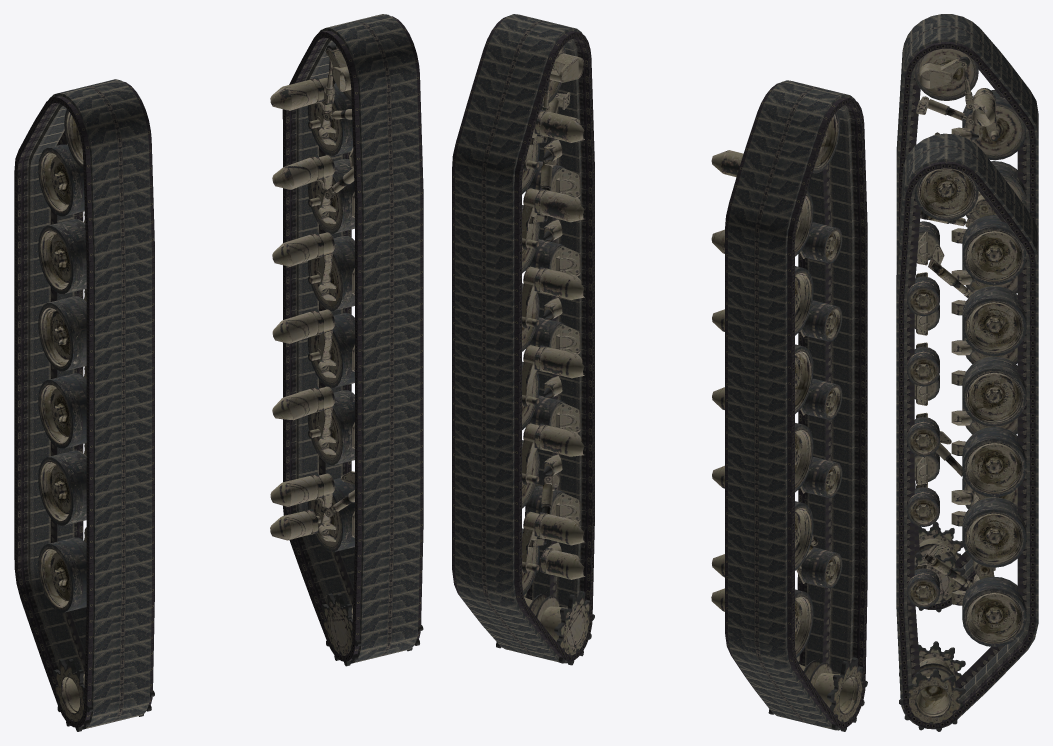
The model's file is Chassis.glb.
3 views of the same model, side by side, from view 1: azimuth 30°, elevation 25°; view 2: azimuth 150°, elevation 25°; view 3: azimuth 270°, elevation 25° (orthographic). The views are drawn at different scales.
Visible parts, largest first — view 1: set_0_group_0, set_1_group_0, set_3_group_0, set_2_group_0; view 2: set_0_group_0, set_1_group_0, set_3_group_0, set_2_group_0; view 3: set_3_group_0, set_1_group_0, set_2_group_0, set_0_group_0.
Boxes of the visible parts, bbox=[...] form: set_0_group_0: bbox=[14, 79, 154, 729]; set_1_group_0: bbox=[282, 14, 423, 663]; set_3_group_0: bbox=[270, 44, 423, 666]; set_2_group_0: bbox=[38, 109, 154, 731]; set_0_group_0: bbox=[725, 80, 867, 730]; set_1_group_0: bbox=[452, 14, 594, 663]; set_3_group_0: bbox=[496, 45, 594, 665]; set_2_group_0: bbox=[711, 111, 867, 731]; set_3_group_0: bbox=[899, 168, 1026, 731]; set_1_group_0: bbox=[896, 133, 1038, 729]; set_2_group_0: bbox=[914, 48, 1026, 612]; set_0_group_0: bbox=[896, 14, 1038, 609].
Size of the model in its own units: 3.61 by 6.46 by 1.46.
4 materials, 4 textured.
